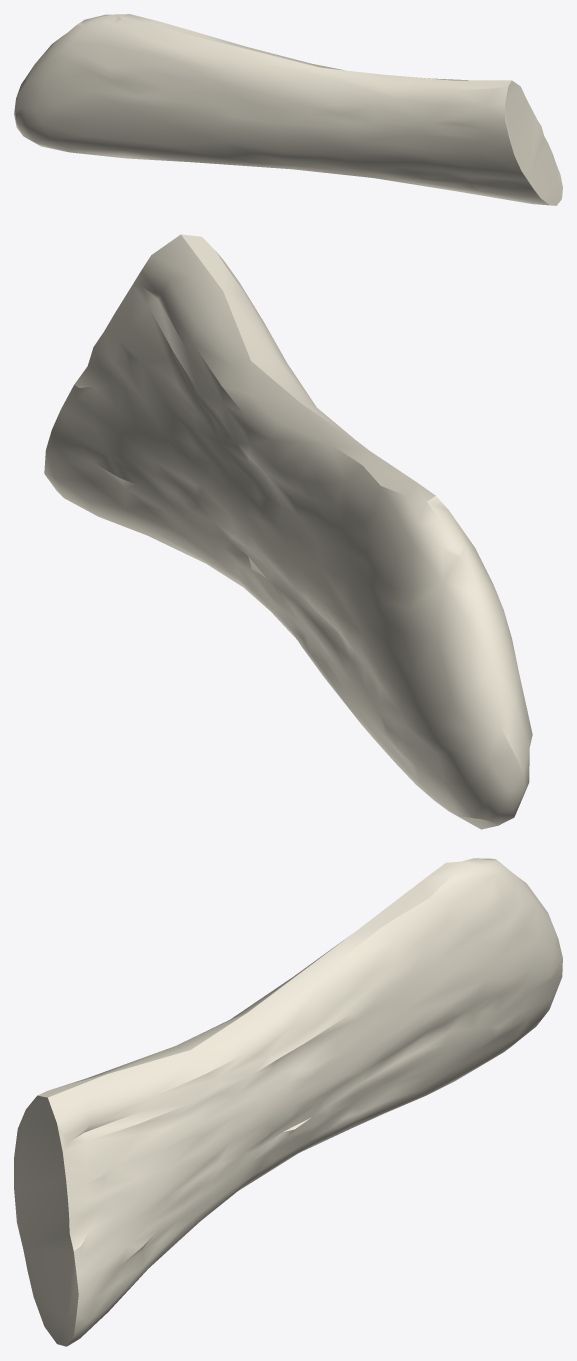
File: fma26007_mm1558.glb
3 views of the same model, one above another, from view 1: azimuth 30°, elevation 25°; view 2: azimuth 150°, elevation 25°; view 3: azimuth 270°, elevation 25° (orthographic). The views are drawn at different scales.
Parts seen in each view (by area): view 1: FMA26007_MM1558; view 2: FMA26007_MM1558; view 3: FMA26007_MM1558.
Boxes of the visible parts, bbox=[...] form: FMA26007_MM1558: bbox=[14, 14, 562, 205]; FMA26007_MM1558: bbox=[44, 234, 532, 829]; FMA26007_MM1558: bbox=[14, 858, 562, 1346].
Bounding box in the file's own units: 0.0204 × 0.0084 × 0.0163.
